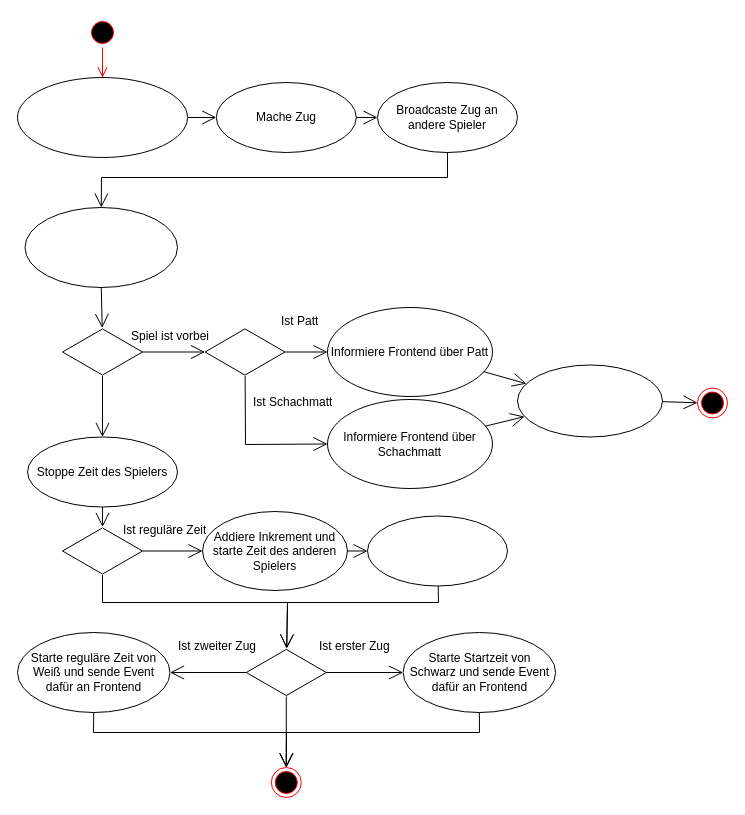
Image size: 745x815. Some labels were removed from this diagram. The centre of each missing label's shape, as x and y in pixels:
"Hole ServerChessClock und aktuellen Stand des Spieles" goes at point (102, 117).
"Sende aktualisierte Zeit an Frontend" goes at point (437, 550).
"Speichere aktuellen Stand mit neuem Zug in Redis" goes at point (101, 247).
"Stoppe Schachuhren und Beende Spiel" goes at point (589, 400).
